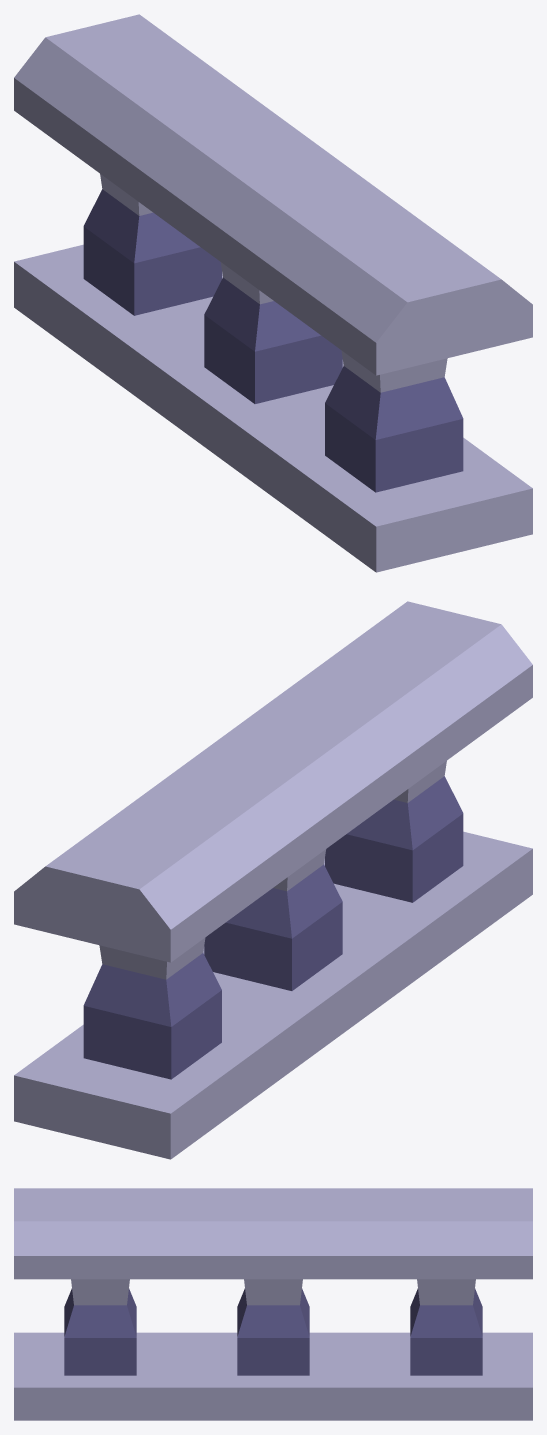
File: PowerupTopStrength.glb
3 views of the same model, one above another, from view 1: azimuth 30°, elevation 25°; view 2: azimuth 150°, elevation 25°; view 3: azimuth 270°, elevation 25° (orthographic). The views are drawn at different scales.
Visible parts, largest first — view 1: mergedBlocks(Clone); view 2: mergedBlocks(Clone); view 3: mergedBlocks(Clone).
Boxes of the visible parts, left/top/right/bottom form: mergedBlocks(Clone): left=14, top=14, right=532, bottom=572; mergedBlocks(Clone): left=14, top=601, right=532, bottom=1159; mergedBlocks(Clone): left=14, top=1188, right=532, bottom=1420.
Bounding box in the file's own units: 0.25 × 0.4 × 1.
